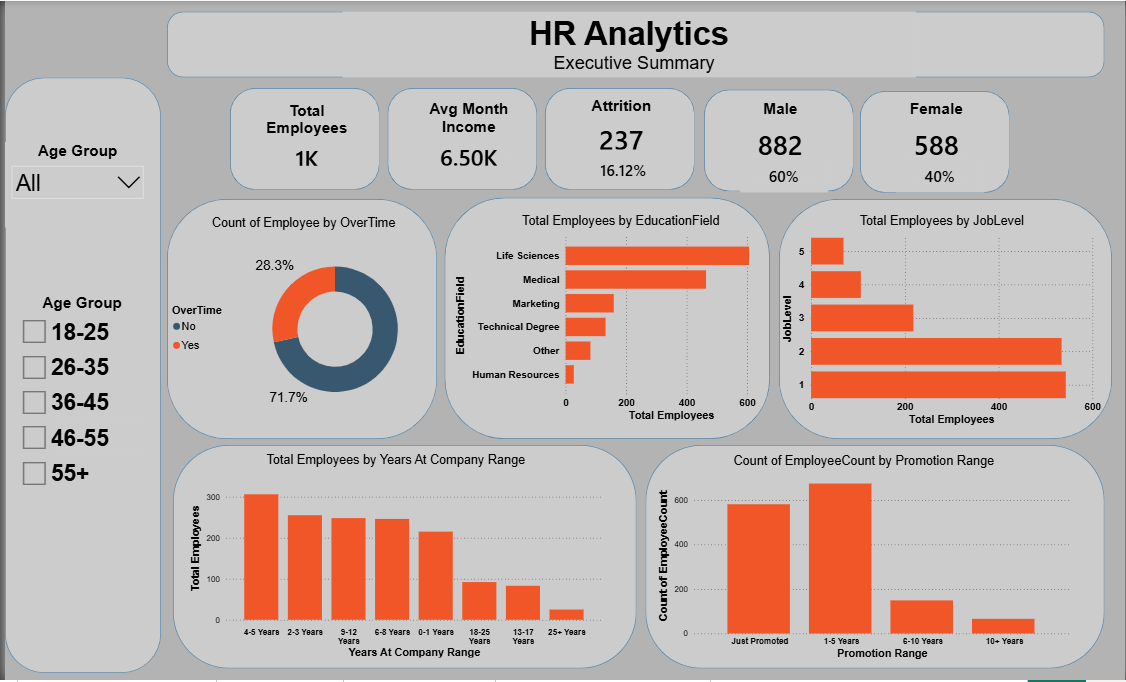

What the dashboard file says about the page in this screenshot:
{"tool":"powerbi","page":{"name":"overall Summery","canvas":[1650,1000],"ordinal":0},"visuals":[{"type":"shape","box":[238.6,15.5,1380.7,97.2],"z":0},{"type":"shape","box":[0,112.7,229.8,877],"z":1000},{"type":"textbox","box":[497.1,15.5,843.9,97.2],"z":2000},{"type":"shape","box":[330.8,127.2,220.3,150],"z":3000},{"type":"shape","box":[796.2,127.2,220.3,150],"z":4000},{"type":"shape","box":[943.3,653.9,676,329.2],"z":5000},{"type":"shape","box":[1139.9,291.6,490.4,353.5],"z":6000},{"type":"cardVisual","title":"Total Employees","fields":{"Data":["HR_Analytics.Total Employees"]},"box":[374.2,148.2,142.4,112.6],"z":7000},{"type":"cardVisual","title":"Total Employees","fields":{"Data":["HR_Analytics.Attrition Rate"]},"box":[846.2,219.4,129.2,56.3],"z":8000},{"type":"clusteredBarChart","fields":{"Y":["HR_Analytics.Total Employees"],"Category":["HR_Analytics.JobLevel"]},"box":[1139.9,313.7,479.4,315.9],"z":9000},{"type":"shape","box":[564.4,127.2,220.3,150],"z":10000},{"type":"cardVisual","title":"Avg Month Income","fields":{"Data":["Avg(HR_Analytics.MonthlyIncome)"]},"box":[604.4,146.6,155.7,114.3],"z":11000},{"type":"shape","box":[1029.7,130.6,220.3,150],"z":12000},{"type":"shape","box":[1259.9,132.2,220.3,150],"z":13000},{"type":"shape","box":[647.3,289.4,479.4,355.7],"z":14000},{"type":"clusteredBarChart","fields":{"Y":["HR_Analytics.Total Employees"],"Category":["HR_Analytics.EducationField"]},"box":[658.3,313.7,497.1,309.3],"z":15000},{"type":"cardVisual","title":"Attrition","fields":{"Data":["HR_Analytics.Attrition Count"]},"box":[841.3,141.6,132.5,94.4],"z":16000},{"type":"cardVisual","title":"Male","fields":{"Data":["Measuers.Male Count"]},"box":[1075.9,143.6,132.6,101.6],"z":17000},{"type":"cardVisual","title":"Total Employees","fields":{"Data":["Measuers.Male %"]},"box":[1078.1,225.3,128.1,48.6],"z":18000},{"type":"cardVisual","title":"Female","fields":{"Data":["Measuers.Female Count"]},"box":[1306.7,146.6,132.5,101],"z":19000},{"type":"cardVisual","title":"Total Employees","fields":{"Data":["Measuers.Female %"]},"box":[1311.6,231,129.2,49.7],"z":20000},{"type":"shape","box":[238.6,291.6,397.7,353.5],"z":21000},{"type":"shape","box":[247.4,653.9,682.6,329.2],"z":22000},{"type":"clusteredColumnChart","fields":{"Category":["HR_Analytics.Years At Company Range"],"Y":["HR_Analytics.Total Employees"]},"box":[267.3,665,616.4,307.1],"z":23000},{"type":"donutChart","title":"Count of Employee by OverTime","fields":{"Y":["CountNonNull(HR_Analytics.EmployeeCount)"],"Category":["HR_Analytics.OverTime"]},"box":[240.8,315.9,397.7,313.7],"z":24000},{"type":"clusteredColumnChart","fields":{"Y":["CountNonNull(HR_Analytics.EmployeeCount)"],"Category":["HR_Analytics.Promotion Range"]},"box":[956.6,667.2,616.4,307.1],"z":25000},{"type":"slicer","title":"Age Group","fields":{"Values":["HR_Analytics.AgeGroup"]},"box":[13.3,430.8,201,311.5],"z":26000},{"type":"slicer","title":"Age Group","fields":{"Values":["HR_Analytics.Department"]},"box":[0,207.7,214.3,125.9],"z":27000}]}

Visuals, with their boxes in screenshot pixels (x1, y1, x2, y2), scaled from the page's 1650x1000 canvas onto the 1126x682 screenshot:
shape: x1=163 y1=11 x2=1105 y2=77
shape: x1=0 y1=77 x2=157 y2=675
textbox: x1=339 y1=11 x2=915 y2=77
shape: x1=226 y1=87 x2=376 y2=189
shape: x1=543 y1=87 x2=694 y2=189
shape: x1=644 y1=446 x2=1105 y2=670
shape: x1=778 y1=199 x2=1113 y2=440
"Total Employees" cardVisual: x1=255 y1=101 x2=353 y2=178
"Total Employees" cardVisual: x1=577 y1=150 x2=666 y2=188
clusteredBarChart - HR_Analytics.Total Employees x HR_Analytics.JobLevel: x1=778 y1=214 x2=1105 y2=429
shape: x1=385 y1=87 x2=535 y2=189
"Avg Month Income" cardVisual: x1=412 y1=100 x2=519 y2=178
shape: x1=703 y1=89 x2=853 y2=191
shape: x1=860 y1=90 x2=1010 y2=192
shape: x1=442 y1=197 x2=769 y2=440
clusteredBarChart - HR_Analytics.Total Employees x HR_Analytics.EducationField: x1=449 y1=214 x2=788 y2=425
"Attrition" cardVisual: x1=574 y1=97 x2=665 y2=161
"Male" cardVisual: x1=734 y1=98 x2=825 y2=167
"Total Employees" cardVisual: x1=736 y1=154 x2=823 y2=187
"Female" cardVisual: x1=892 y1=100 x2=982 y2=169
"Total Employees" cardVisual: x1=895 y1=158 x2=983 y2=191
shape: x1=163 y1=199 x2=434 y2=440
shape: x1=169 y1=446 x2=635 y2=670
clusteredColumnChart - HR_Analytics.Years At Company Range x HR_Analytics.Total Employees: x1=182 y1=454 x2=603 y2=663
"Count of Employee by OverTime" donutChart: x1=164 y1=215 x2=436 y2=429
clusteredColumnChart - CountNonNull(HR_Analytics.EmployeeCount) x HR_Analytics.Promotion Range: x1=653 y1=455 x2=1073 y2=664
"Age Group" slicer: x1=9 y1=294 x2=146 y2=506
"Age Group" slicer: x1=0 y1=142 x2=146 y2=228
